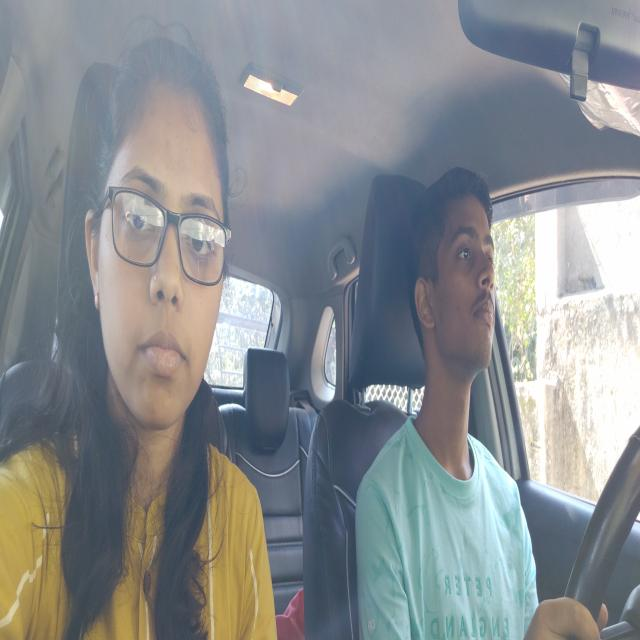person: (82, 23, 240, 444), (402, 158, 501, 416)
